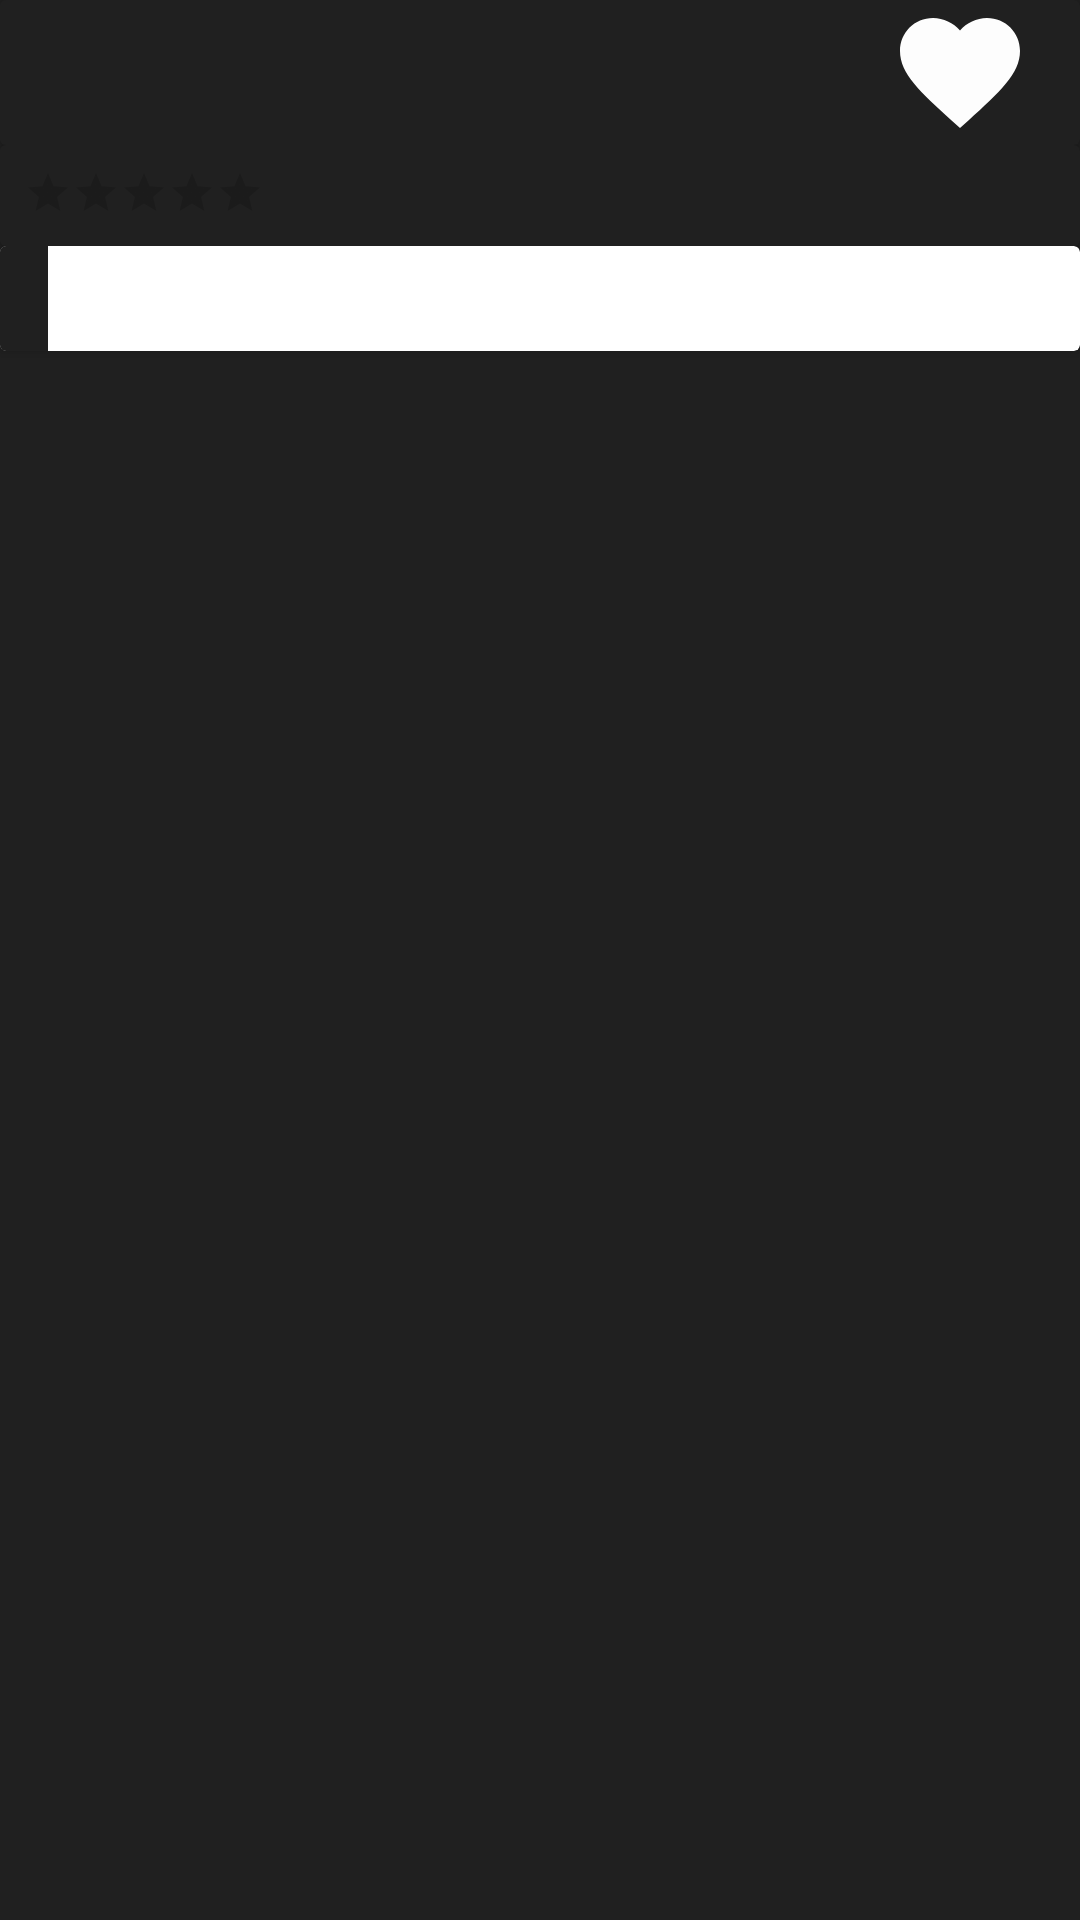

Icon bounding boxes for this 1080px×1920px phone screenshot, format (x1, y1, x2, y2):
favourite: (900, 18, 1020, 128)
